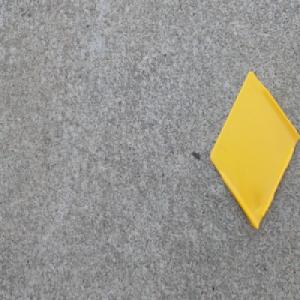PlasticPart: (208, 68, 300, 232)
